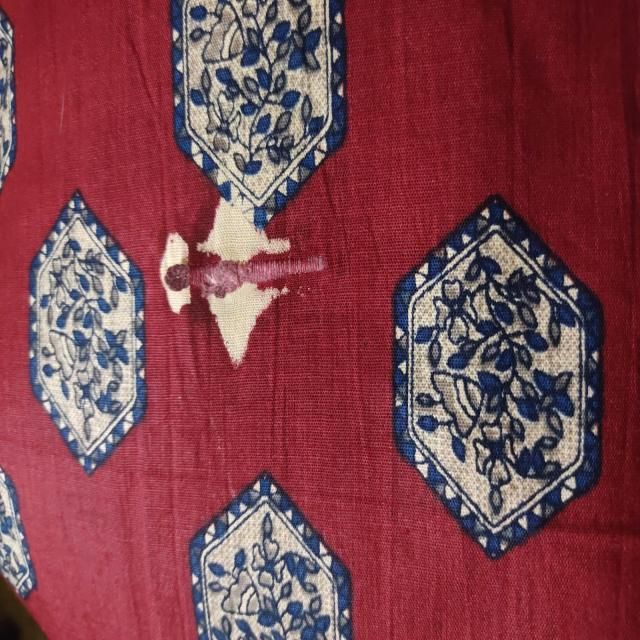stain: (166, 188, 320, 339)
